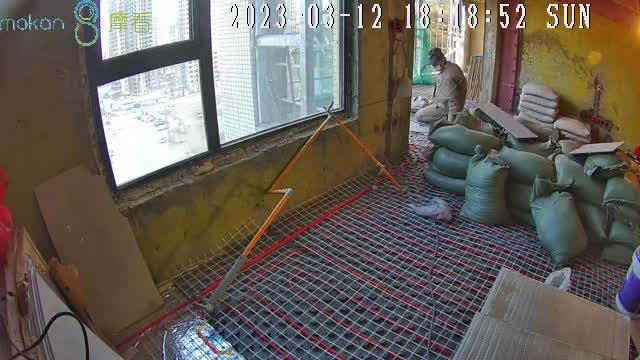people: (415, 47, 467, 125)
window: (90, 1, 360, 191)
